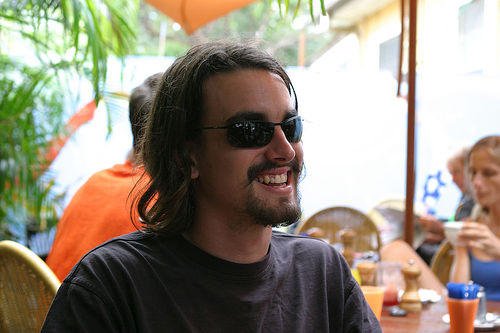without_mask: (169, 56, 321, 237), (468, 136, 500, 217), (443, 151, 479, 203)
